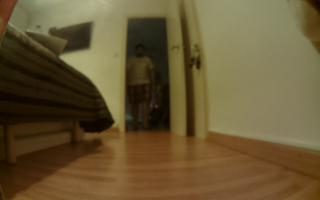person: (127, 42, 157, 131)
